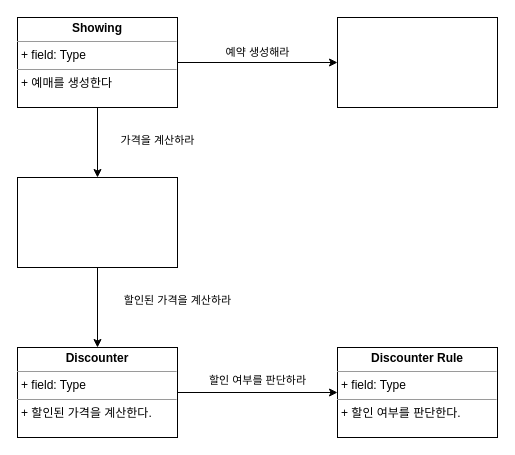
This 515x455 diagram has some shape labels left out. The centre of each missing label's shape, as x and y in pixels:
"Movie + field: Type + 가격을 계산한다." belongs at point (97, 222).
"Reservation + field: Type + 예약을 생성한다." belongs at point (417, 62).
